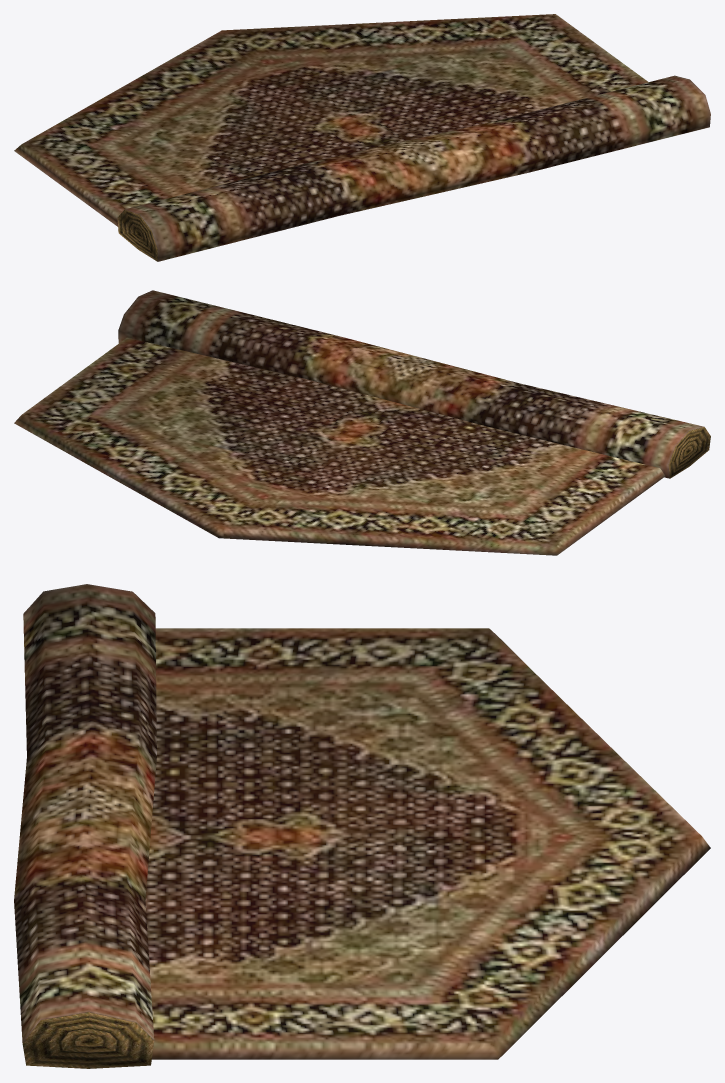
The model's file is KM_VOB_CARPET_01.glb.
3 renders of one model, top to bottom at view 1: azimuth 30°, elevation 25°; view 2: azimuth 150°, elevation 25°; view 3: azimuth 270°, elevation 25°, orthographic. The views are drawn at different scales.
Parts seen in each view (by area): view 1: Mesh; view 2: Mesh; view 3: Mesh.
Part boxes in pixels (bbox=[...]): Mesh: bbox=[14, 14, 710, 261]; Mesh: bbox=[14, 290, 710, 555]; Mesh: bbox=[14, 584, 710, 1068].
Size of the model in its own units: 3.12 by 0.191 by 2.13.
Materials: 2 (2 with a texture image).
